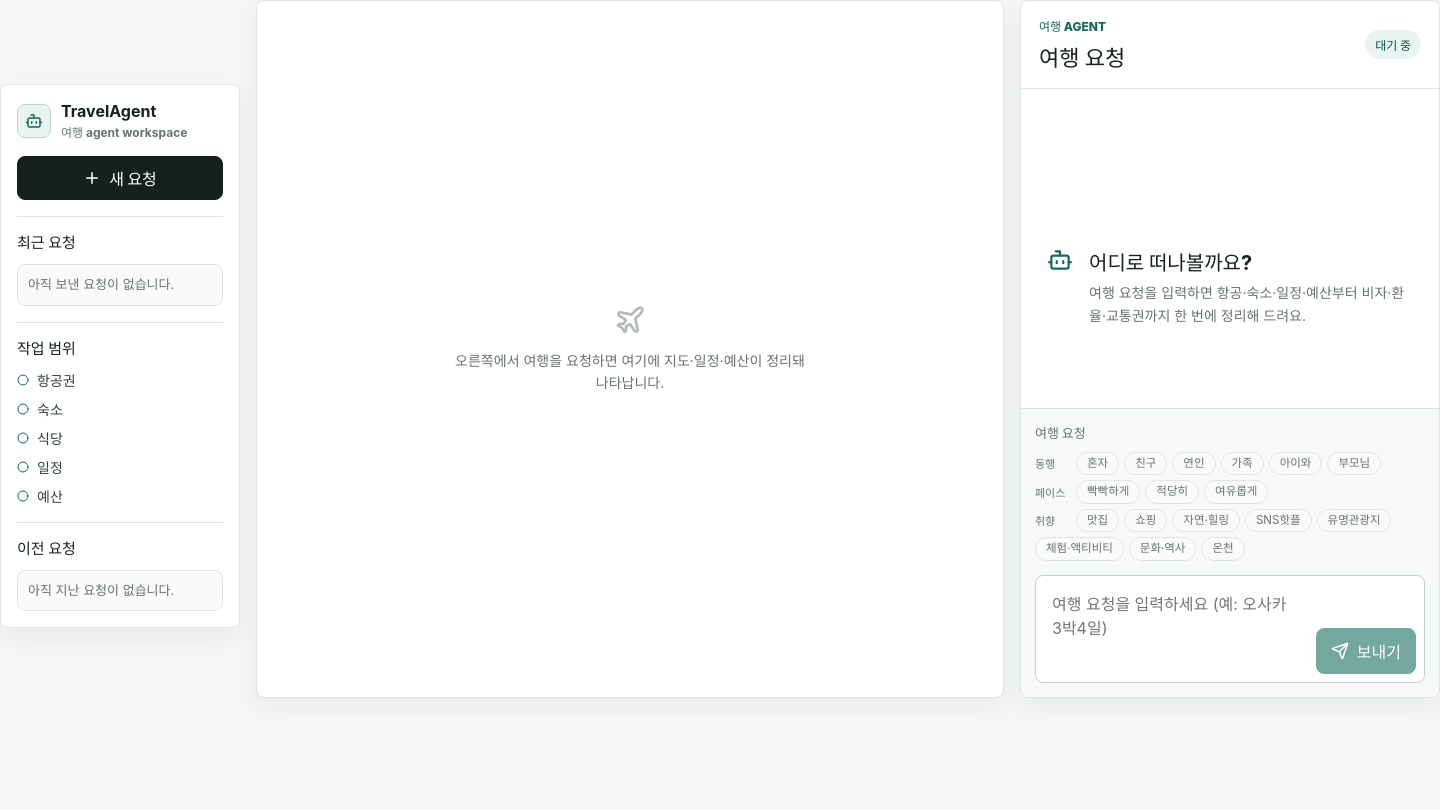
Test: HomePage › run이 완료되면 폴링 결과(목적지)를 캔버스에 보여준다
This screenshot has width=1440, height=810.
In the text box labelled "여행 요청": (1175, 629) x1=1044 y1=584 x2=1306 y2=674, type "삿포로 항공권 찾아줘"
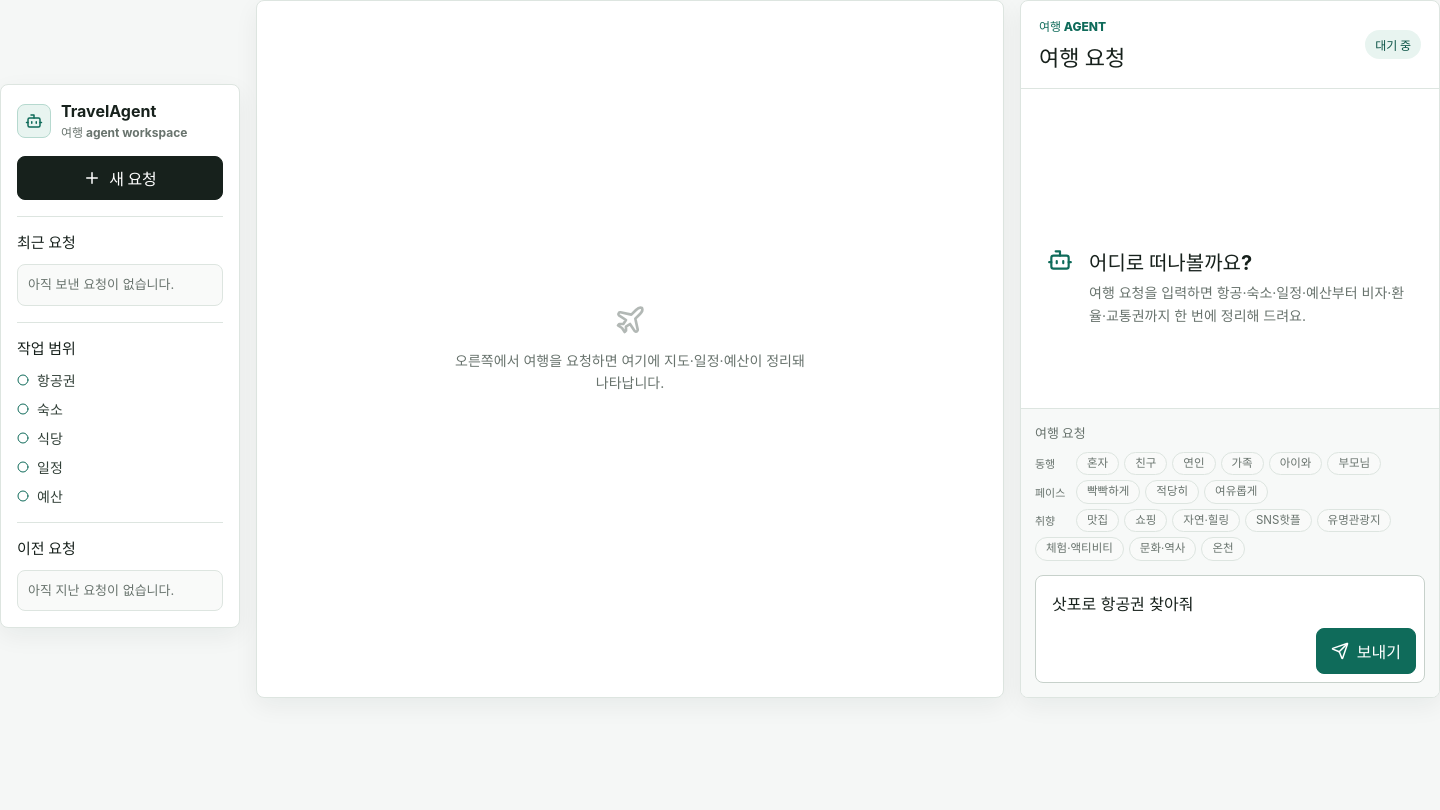
Click the button "보내기": (1366, 651) x1=1316 y1=628 x2=1416 y2=674
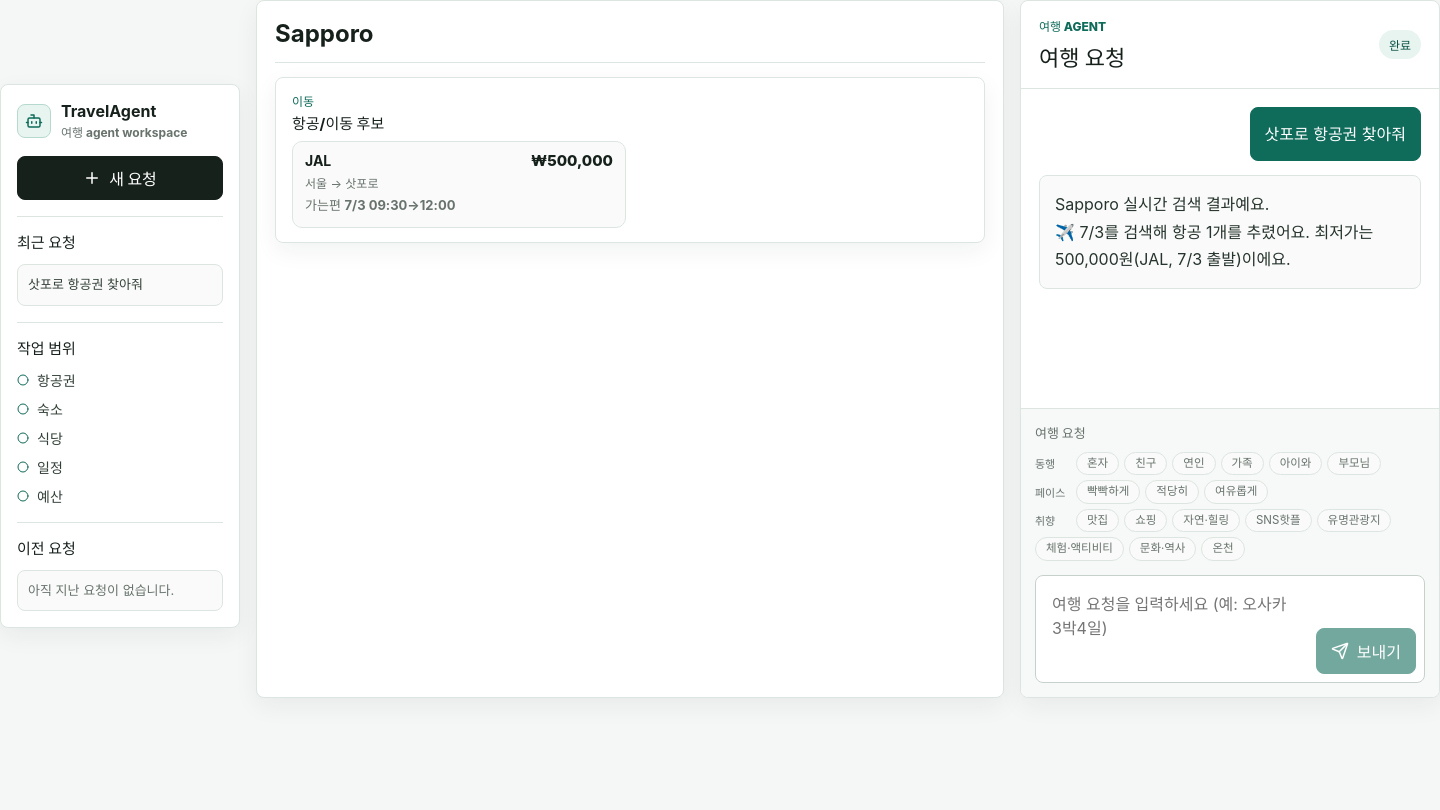
Check: the heading "Sapporo" is shown, box x1=275 y1=19 x2=374 y2=48
